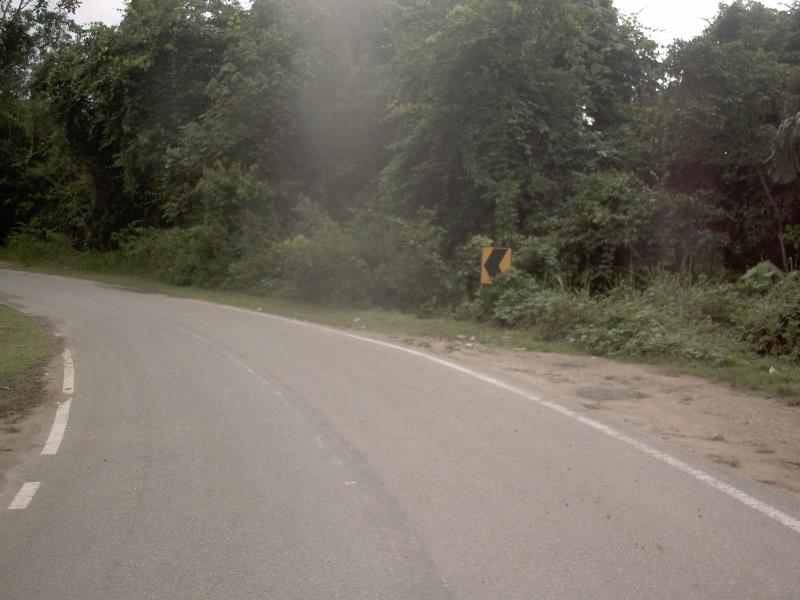traffic_sign: (470, 233, 522, 294)
